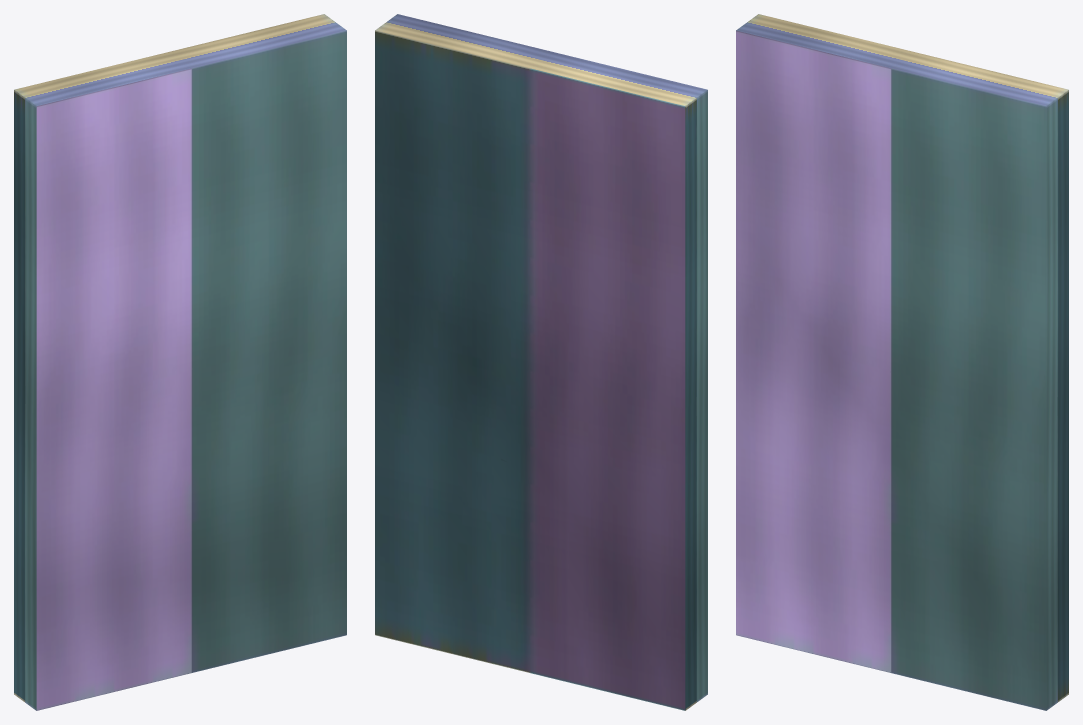
File: fern.glb
3 renders of one model, left to right at view 1: azimuth 30°, elevation 25°; view 2: azimuth 150°, elevation 25°; view 3: azimuth 330°, elevation 25°, orthographic.
Parts seen in each view (by area): view 1: col; view 2: col; view 3: col.
Boxes of the visible parts, x1,y1,x2,y2 form: col: [14, 14, 346, 710]; col: [375, 14, 707, 710]; col: [736, 14, 1068, 710].
Bounding box in the file's own units: 0.4915 × 0.915 × 0.0619.
2 materials, 2 textured.
